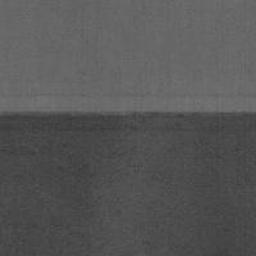Welding line: (0, 109, 256, 116)
